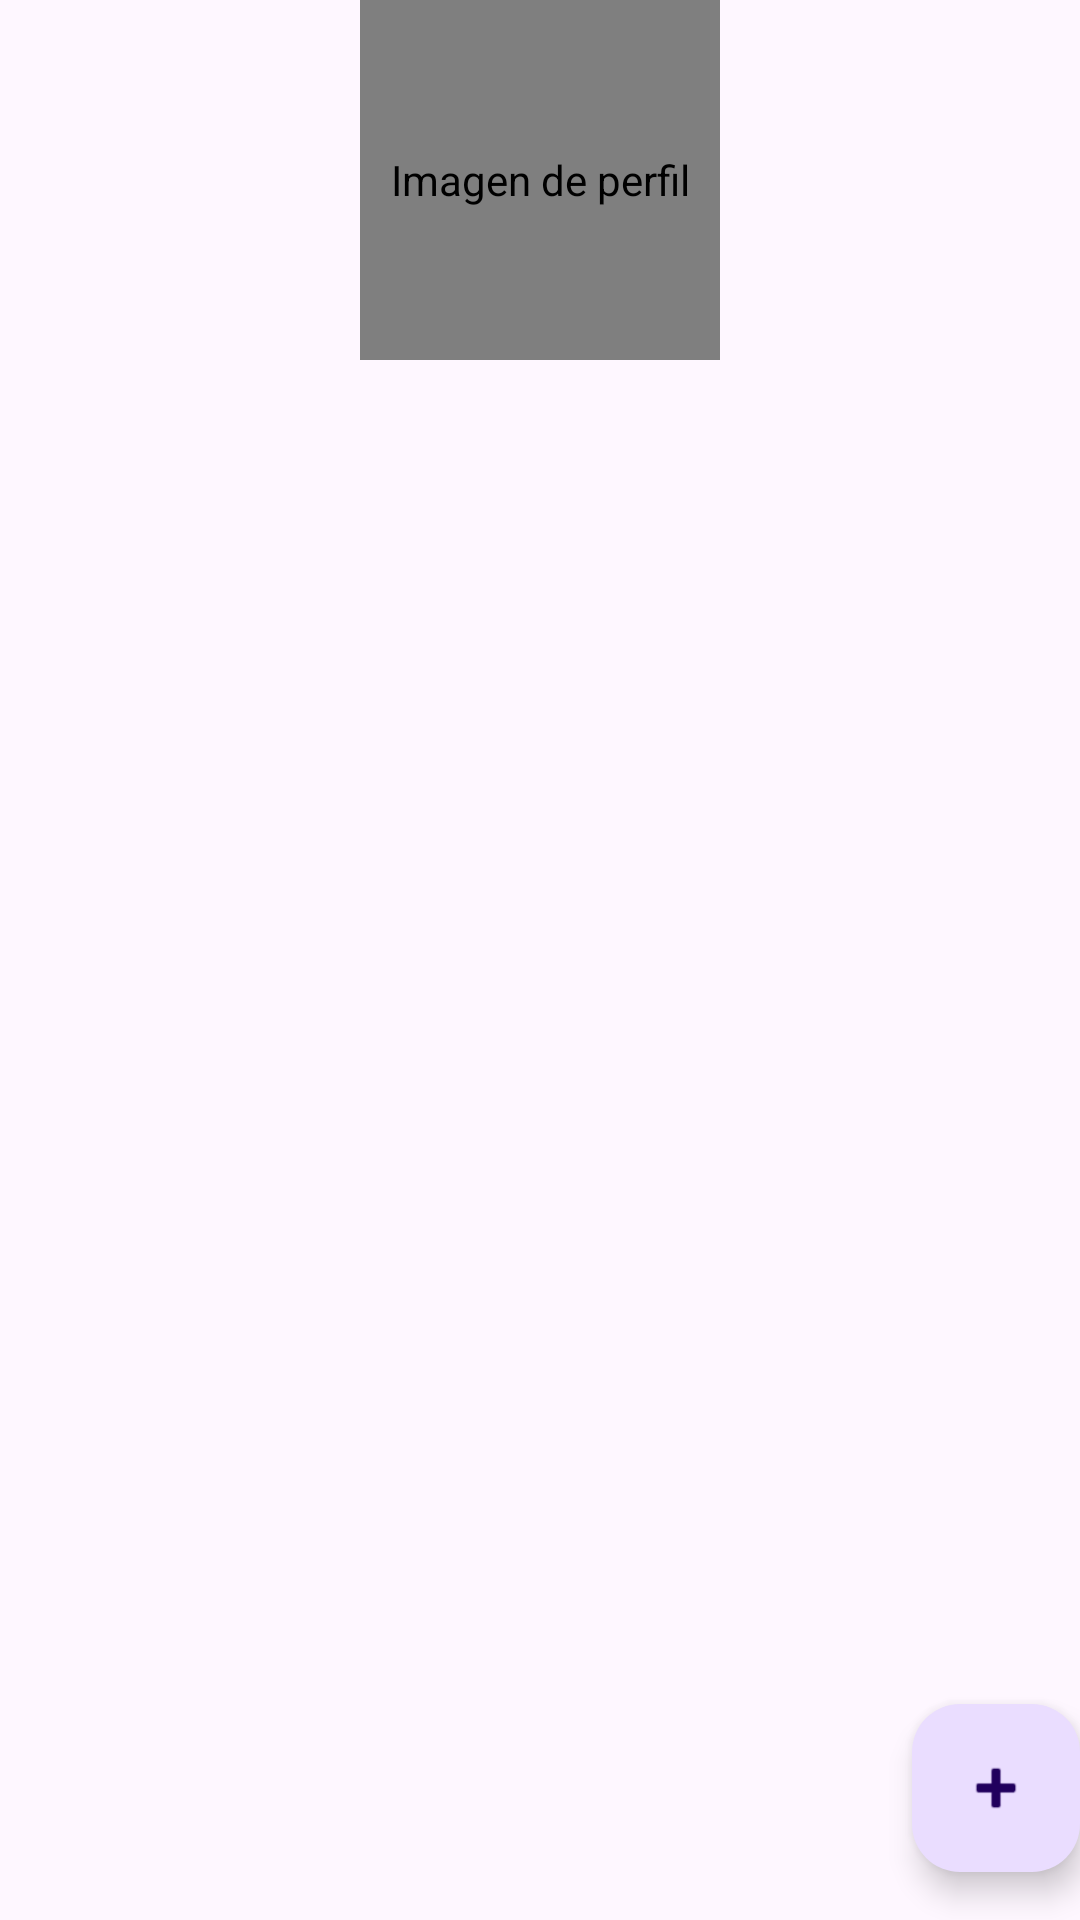

Point at icon controls on the screen. Image size 1080px×1920px, points as [x,y].
Agregar Tarea: [996,1788]
